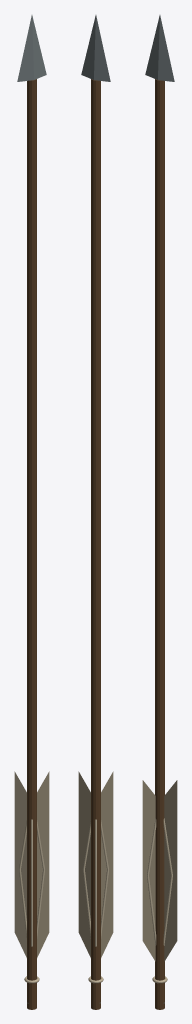
File: period_arrow.glb
The picture shows the model from 3 angles, left to right: view 1: azimuth 30°, elevation 25°; view 2: azimuth 150°, elevation 25°; view 3: azimuth 330°, elevation 25°; orthographic projection.
Visible parts, largest first — view 1: Arrow 00 hardwood shaft, Arrow 00 feather 0, Arrow 00 feather 1, Arrow 00 forged point, Arrow 00 feather quill 0, Arrow 00 feather quill 1, Arrow 00 feather quill 2; view 2: Arrow 00 hardwood shaft, Arrow 00 feather 0, Arrow 00 feather 2, Arrow 00 forged point, Arrow 00 feather quill 0, Arrow 00 feather quill 2, Arrow 00 feather quill 1; view 3: Arrow 00 hardwood shaft, Arrow 00 feather 0, Arrow 00 feather 2, Arrow 00 forged point, Arrow 00 feather quill 0, Arrow 00 feather quill 2.
Boxes of the visible parts, x1=… form: Arrow 00 hardwood shaft: x1=27, y1=79, x2=36, y2=1009; Arrow 00 feather 0: x1=37, y1=771, x2=49, y2=957; Arrow 00 feather 1: x1=14, y1=771, x2=26, y2=957; Arrow 00 forged point: x1=17, y1=15, x2=46, y2=81; Arrow 00 feather quill 0: x1=37, y1=820, x2=44, y2=938; Arrow 00 feather quill 1: x1=19, y1=820, x2=26, y2=938; Arrow 00 feather quill 2: x1=31, y1=819, x2=32, y2=946; Arrow 00 hardwood shaft: x1=91, y1=79, x2=100, y2=1009; Arrow 00 feather 0: x1=78, y1=771, x2=90, y2=957; Arrow 00 feather 2: x1=101, y1=771, x2=113, y2=957; Arrow 00 forged point: x1=81, y1=15, x2=110, y2=81; Arrow 00 feather quill 0: x1=83, y1=820, x2=90, y2=938; Arrow 00 feather quill 2: x1=101, y1=820, x2=108, y2=938; Arrow 00 feather quill 1: x1=95, y1=819, x2=96, y2=946; Arrow 00 hardwood shaft: x1=155, y1=79, x2=164, y2=1009; Arrow 00 feather 0: x1=164, y1=780, x2=177, y2=961; Arrow 00 feather 2: x1=142, y1=780, x2=155, y2=961; Arrow 00 forged point: x1=145, y1=15, x2=174, y2=81; Arrow 00 feather quill 0: x1=163, y1=818, x2=172, y2=945; Arrow 00 feather quill 2: x1=147, y1=818, x2=156, y2=945.
Bounding box in the file's own units: 0.026 × 0.77 × 0.0242.
